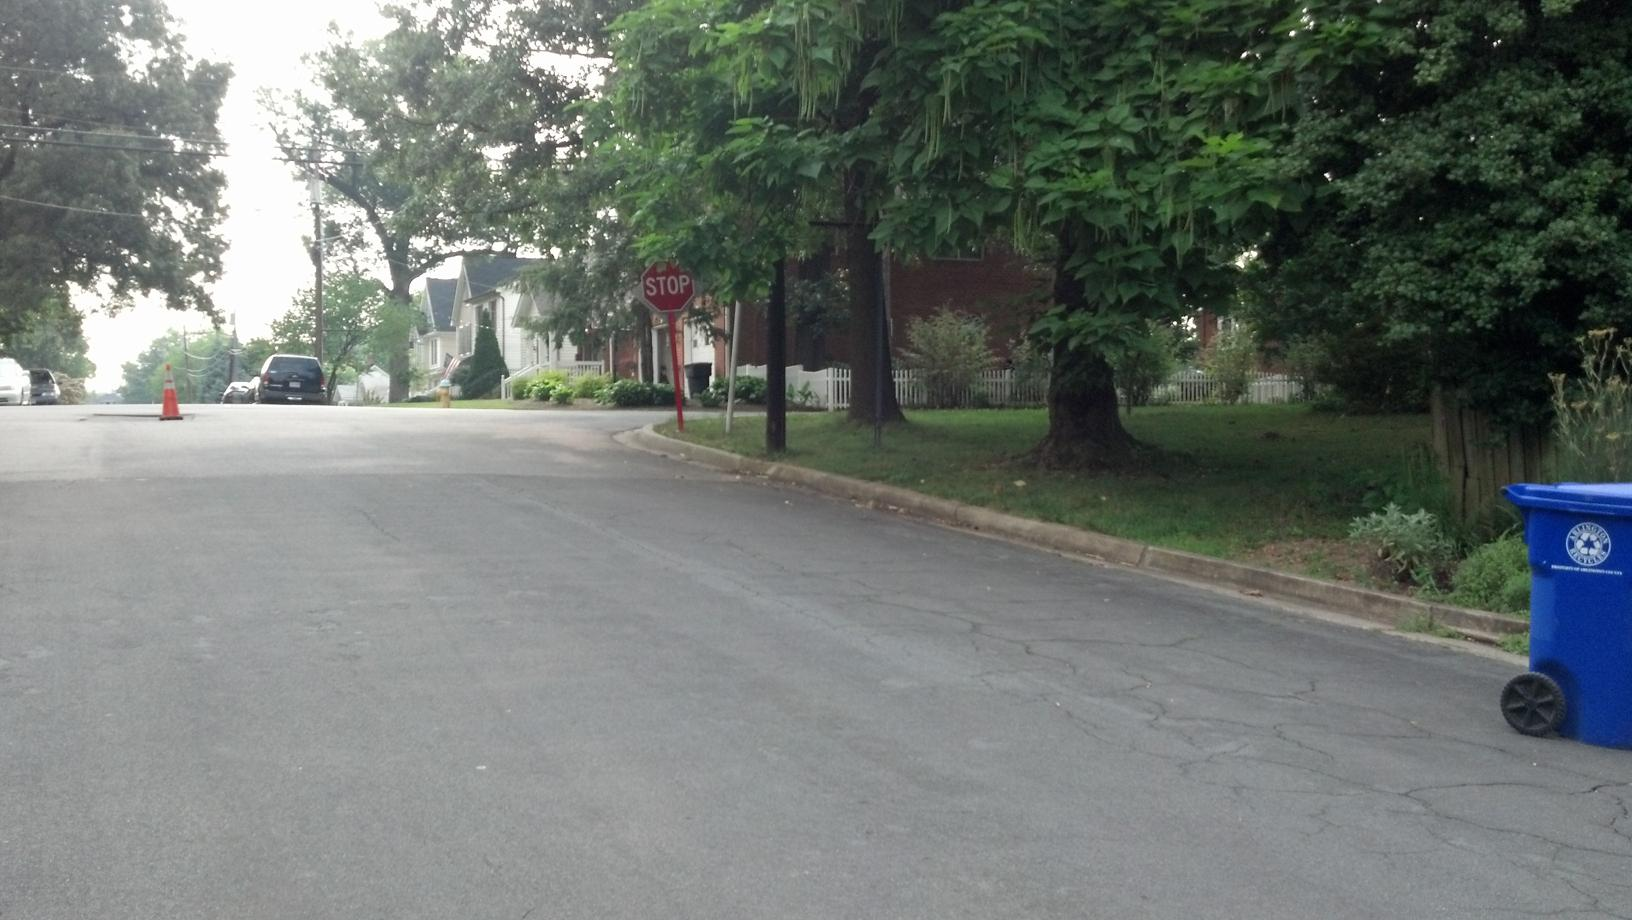car: (253, 349, 328, 403)
stop: (639, 255, 705, 318)
